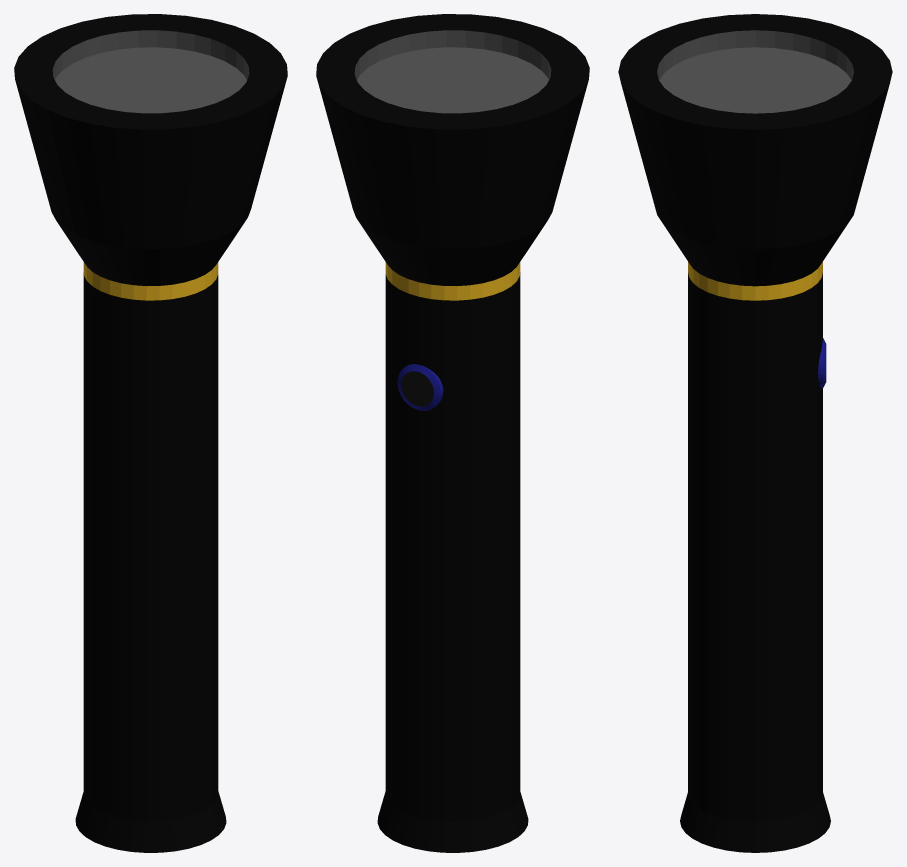
Rendered from Flashlight 1.fbx.
The picture shows the model from 3 angles, left to right: view 1: azimuth 30°, elevation 25°; view 2: azimuth 150°, elevation 25°; view 3: azimuth 270°, elevation 25°; orthographic projection.
Parts seen in each view (by area): view 1: Cylinder.001; view 2: Cylinder.001, Cylinder; view 3: Cylinder.001.
Boxes of the visible parts, <box> form: Cylinder.001: <box>14,14,287,852</box>; Cylinder.001: <box>316,14,589,852</box>; Cylinder: <box>397,364,443,410</box>; Cylinder.001: <box>618,14,892,852</box>.
Size of the model in its own units: 200 by 603 by 200.
